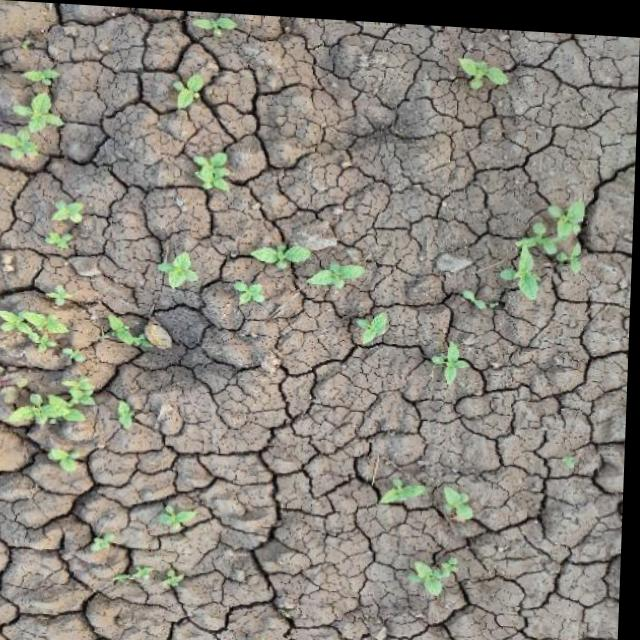crop: (492, 187, 601, 298), (7, 361, 100, 455), (385, 452, 471, 540), (446, 32, 521, 108), (40, 183, 111, 255), (397, 538, 466, 609), (1, 292, 69, 361), (158, 52, 224, 119), (175, 139, 241, 206), (252, 224, 315, 287), (423, 333, 478, 389), (351, 299, 402, 351), (158, 489, 209, 540)
